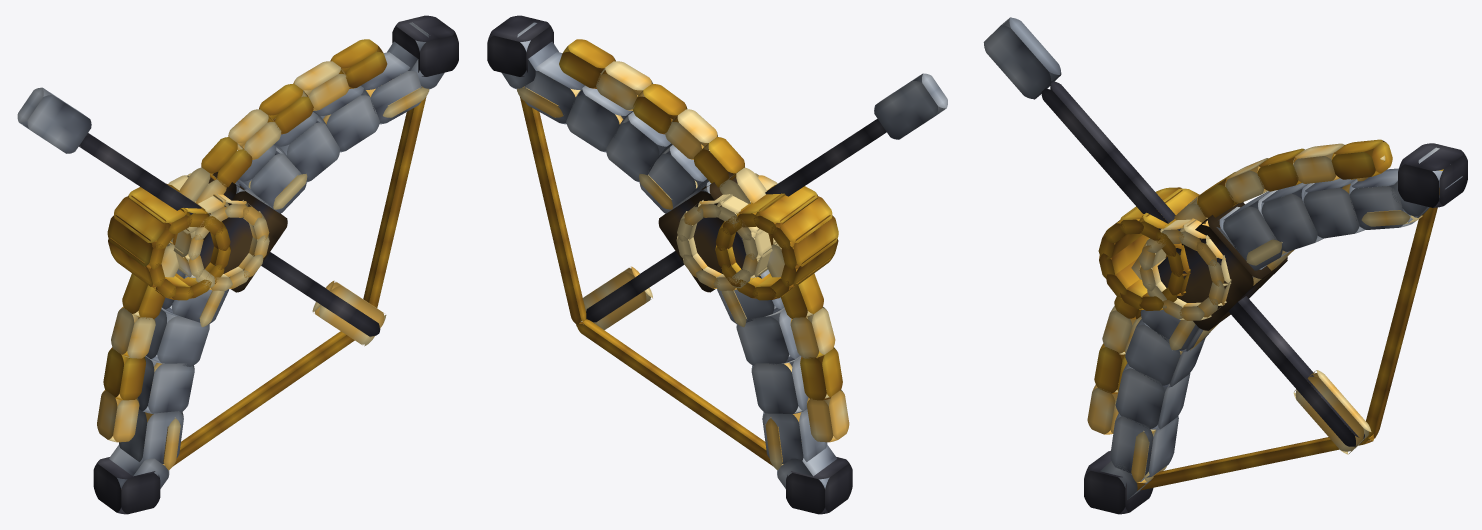
The model's file is twinstring_pulling_2.obj.
3 views of the same model, side by side, from view 1: azimuth 30°, elevation 25°; view 2: azimuth 150°, elevation 25°; view 3: azimuth 330°, elevation 25° (orthographic). The views are drawn at different scales.
Parts seen in each view (by area): view 1: lit, fire; view 2: lit, fire; view 3: lit, fire.
Boxes of the visible parts, <box> form: lit: <box>17,15,458,514</box>; fire: <box>97,61,429,470</box>; lit: <box>487,15,947,514</box>; fire: <box>517,61,849,470</box>; lit: <box>983,17,1467,514</box>; fire: <box>1087,143,1422,482</box>.
Bounding box in the file's own units: 0.9765 × 0.9514 × 0.1625.
